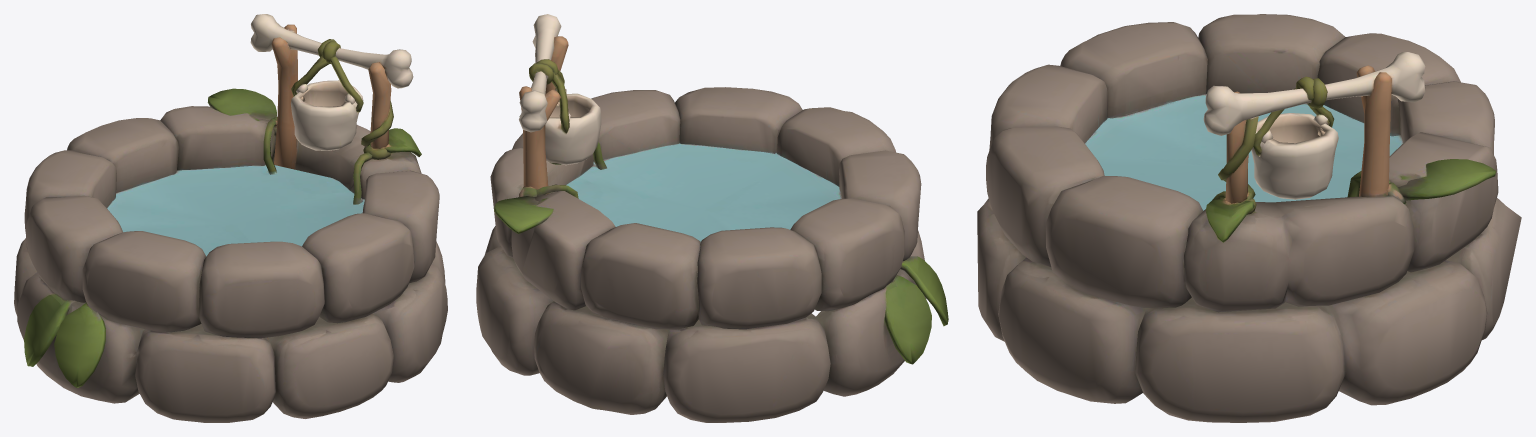
The model's file is hot-spring-well.glb.
3 renders of one model, left to right at view 1: azimuth 30°, elevation 25°; view 2: azimuth 150°, elevation 25°; view 3: azimuth 270°, elevation 25°, orthographic. The views are drawn at different scales.
Parts seen in each view (by area): view 1: Hot Spring Well; view 2: Hot Spring Well; view 3: Hot Spring Well.
Part boxes in pixels (bbox=[...]): Hot Spring Well: bbox=[14, 14, 447, 422]; Hot Spring Well: bbox=[476, 14, 948, 422]; Hot Spring Well: bbox=[977, 14, 1521, 422].
Bounding box in the file's own units: 0.998 × 0.6504 × 0.959.
1 material, 1 textured.
